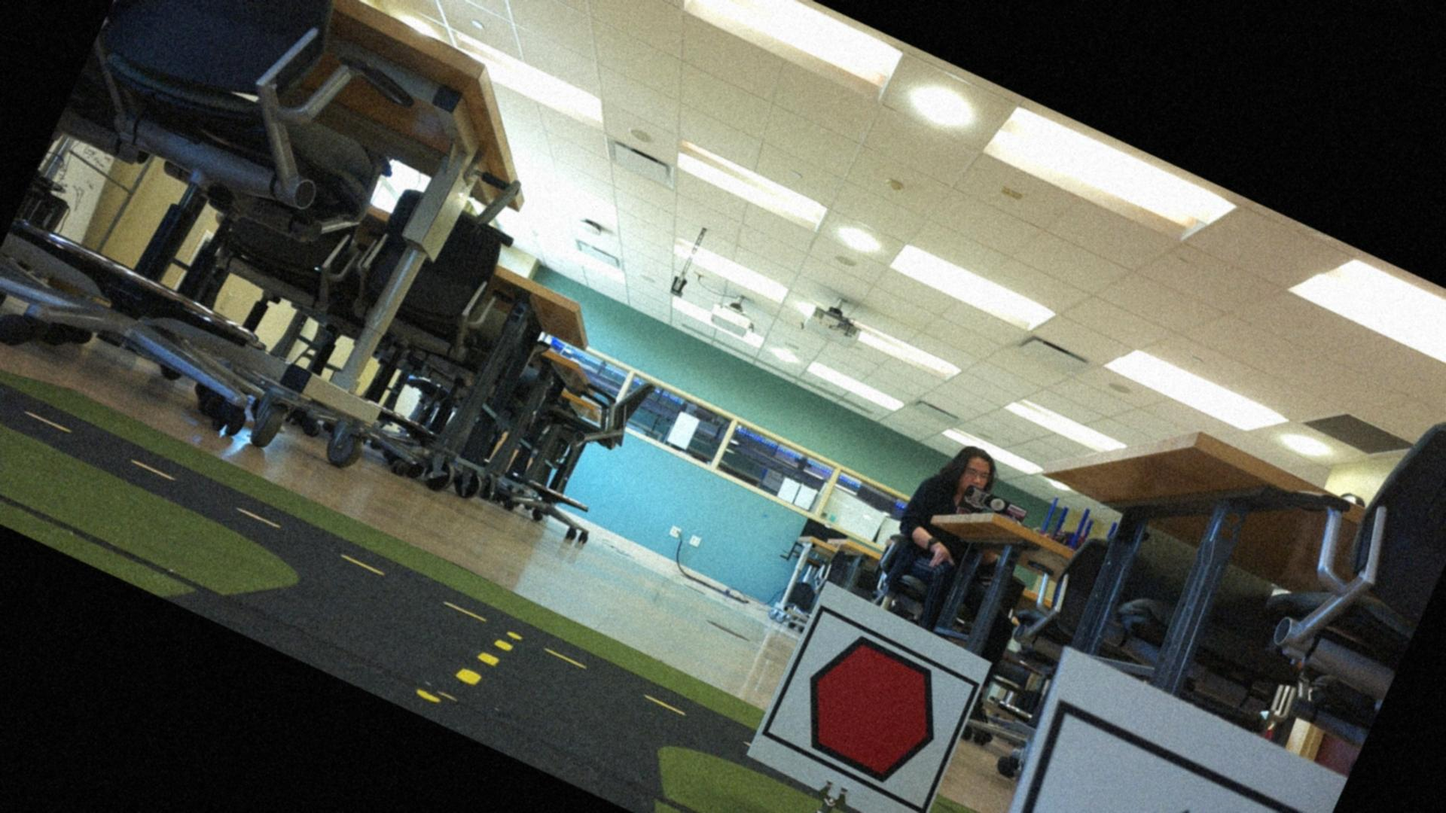stop: (760, 613, 978, 811)
turnright: (975, 723, 1322, 812)
yellowline: (455, 625, 515, 696)
